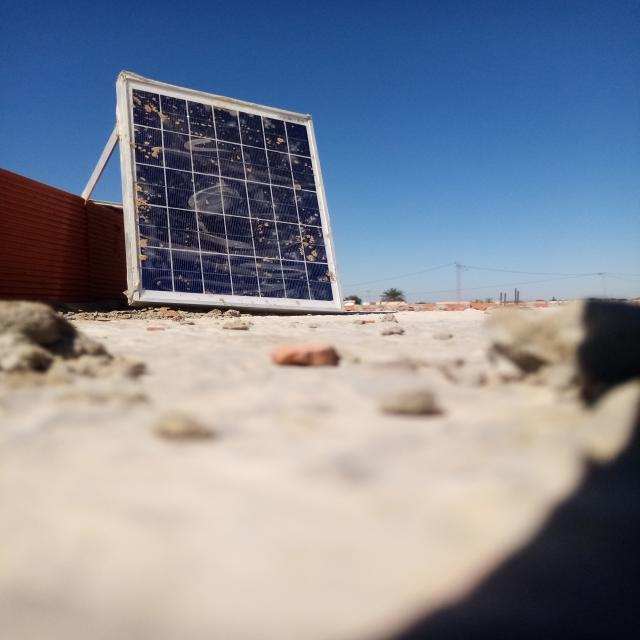faulty: (123, 73, 343, 310)
